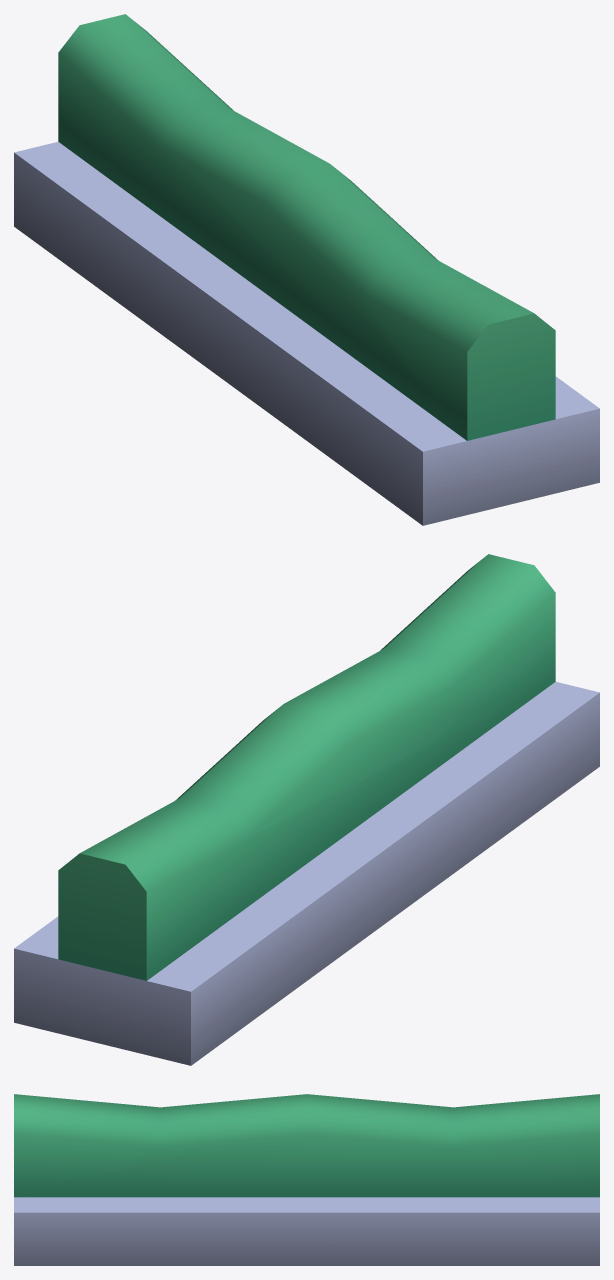
The model's file is hack.glb.
The picture shows the model from 3 angles, top to bottom: view 1: azimuth 30°, elevation 25°; view 2: azimuth 150°, elevation 25°; view 3: azimuth 270°, elevation 25°; orthographic projection. The views are drawn at different scales.
Visible parts, largest first — view 1: hedge; view 2: hedge; view 3: hedge.
Part boxes in pixels (<box>): hedge: <box>14,14,599,525</box>; hedge: <box>14,554,599,1065</box>; hedge: <box>14,1094,599,1265</box>.
Bounding box in the file's own units: 0.25 × 0.25 × 1.
1 material, 1 textured.
